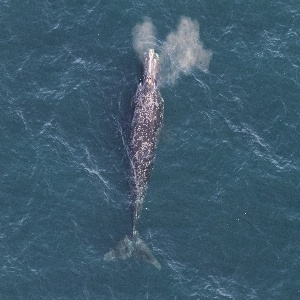cetacean: (103, 49, 164, 268)
